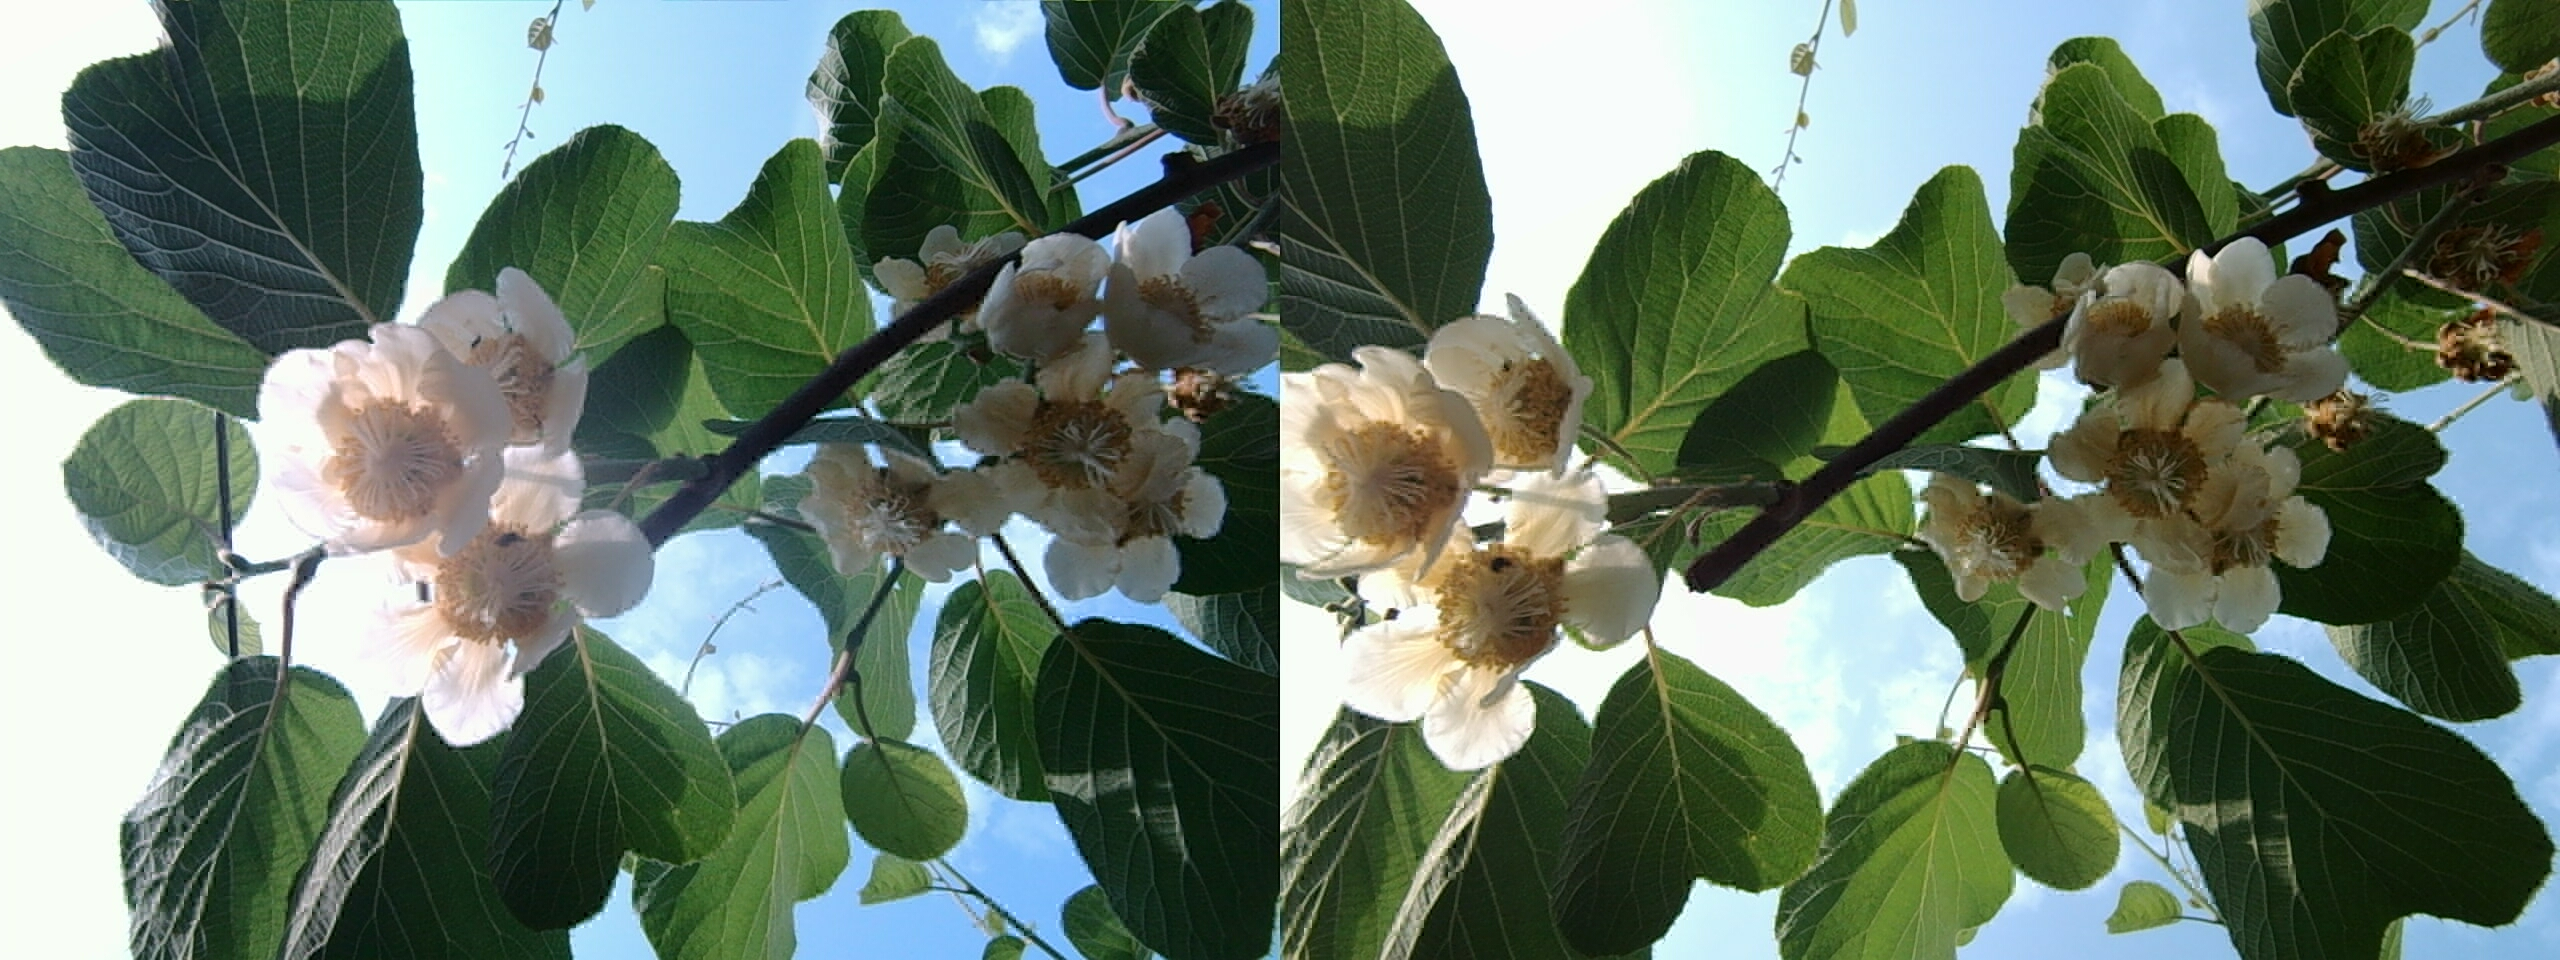flower: (2034, 346, 2335, 629), (1314, 498, 1624, 753), (353, 470, 638, 736), (936, 367, 1238, 599), (242, 317, 513, 562), (1273, 358, 1486, 589), (1096, 220, 1277, 421), (408, 271, 593, 464), (2176, 242, 2354, 408), (1430, 300, 1584, 478), (967, 235, 1113, 376), (2054, 260, 2188, 397)
